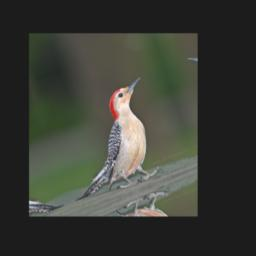Woodpecker: (45, 74, 174, 208)
